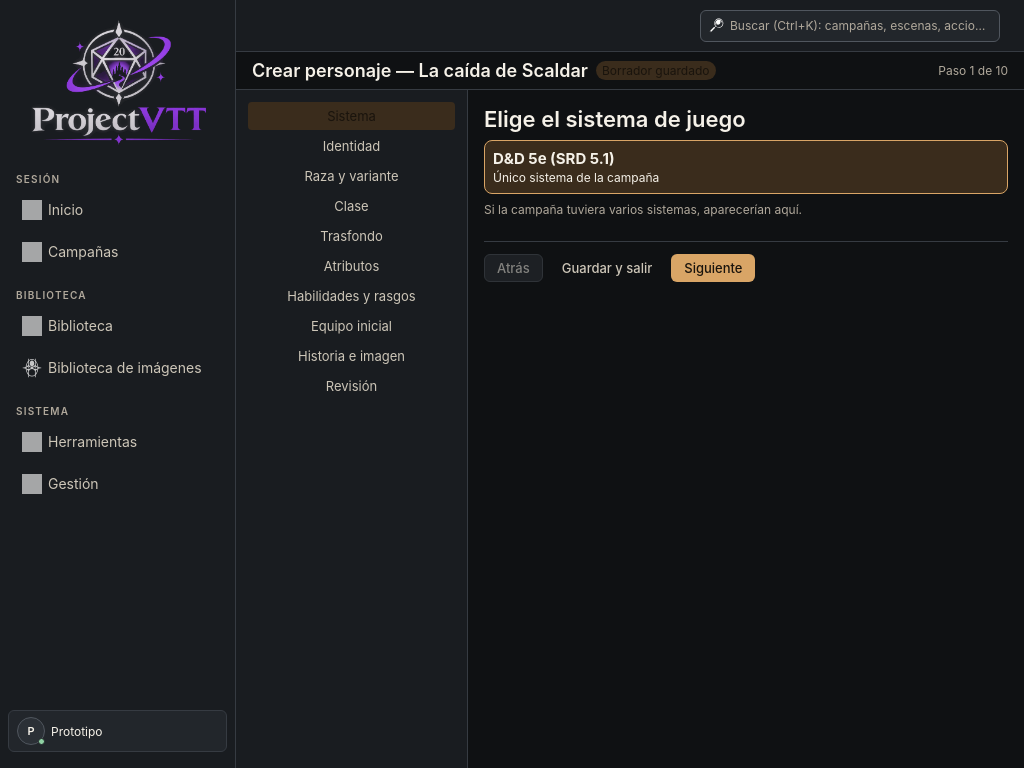
Test case: Prototipo Creador de personajes (PMB-3.4) › muestra el mapa de pasos y permite navegar con efectos visibles
Expected: the text "Paso 1 de 10" is shown, [938,63,1008,78]
What coordinates should you click on to do the following:
click the button "Raza y variante"
I would click on:
 (352, 176)
Its box is [248,162,455,190].
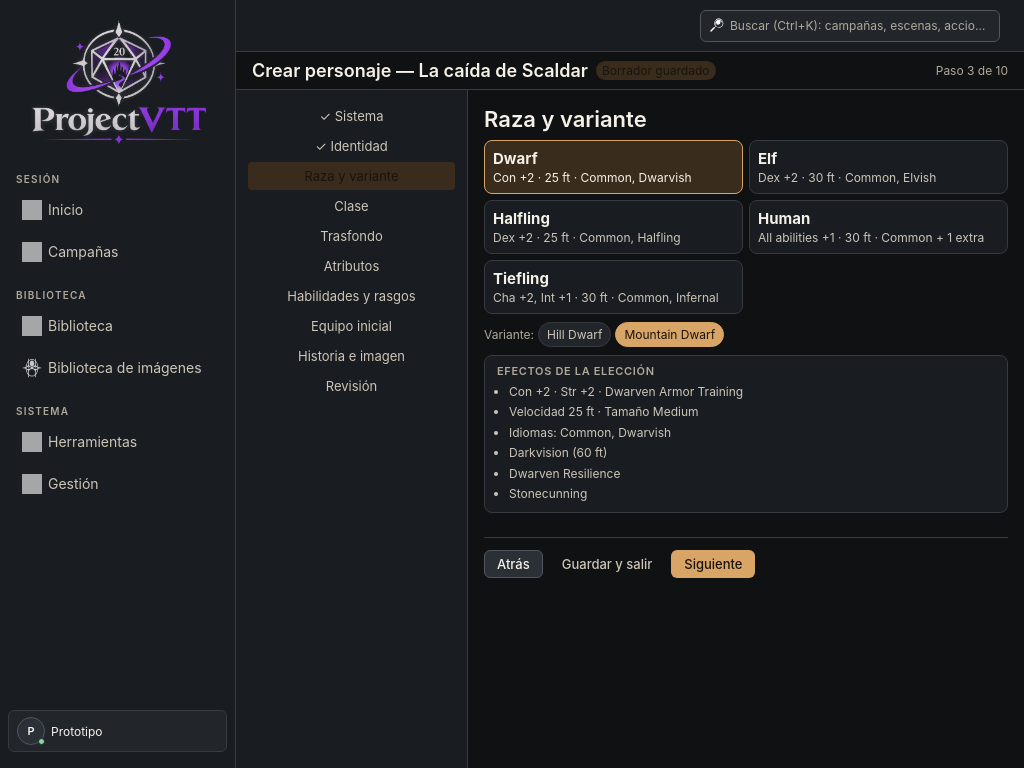
Result: the text "Dwarf" is shown at [493,149,538,168]
Result: the text "Con +2 · 25 ft · Common, Dwarvish" is shown at [493,170,692,185]
Note: Elegir el elfo cambia los efectos (y sus variantes).
What coordinates should you click on to do the following:
click the button "Elf Dex +2 · 30 ft · Common, Elvish"
I would click on:
 (878, 167)
Its box is [749,140,1008,194].
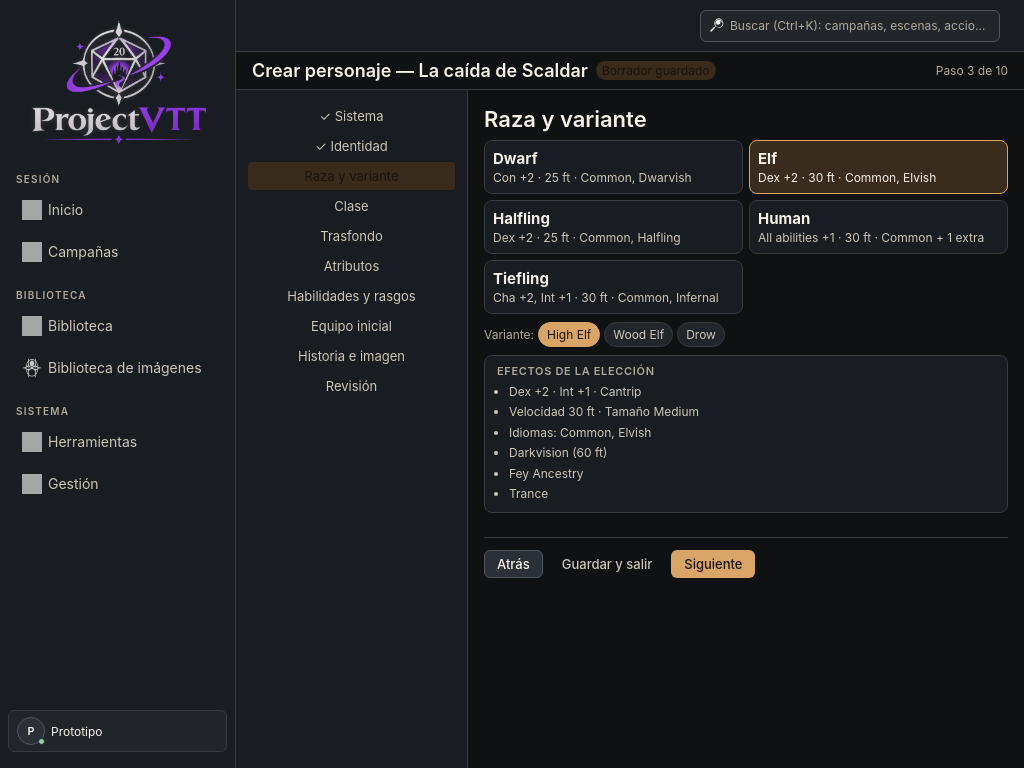
Result: the text "Dex +2 · 30 ft · Common, Elvish" is shown at [758,170,936,185]
Result: the button "Wood Elf" is shown at [604,322,673,347]
